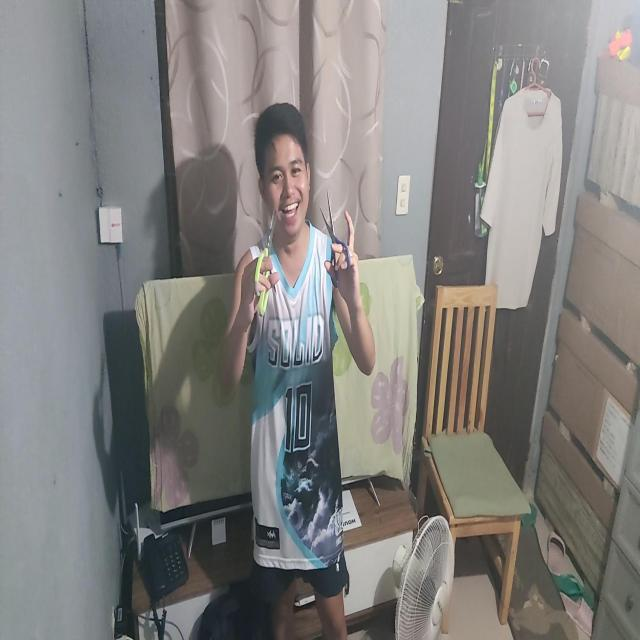scissor: (315, 189, 352, 287), (256, 207, 280, 316)
